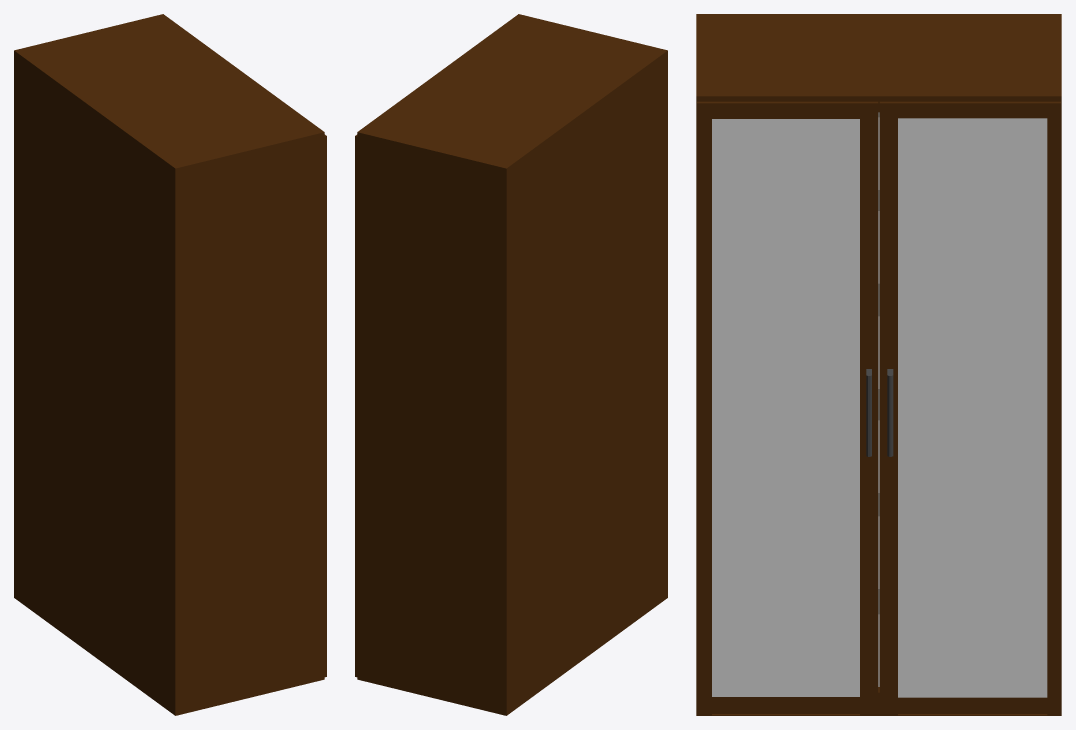
Rendered from Furniture 3.fbx.
3 views of the same model, side by side, from view 1: azimuth 30°, elevation 25°; view 2: azimuth 150°, elevation 25°; view 3: azimuth 270°, elevation 25° (orthographic). The views are drawn at different scales.
Parts seen in each view (by area): view 1: Base.002, Door Glass.002; view 2: Base.002, Door Glass.003; view 3: Door Glass.002, Door Glass.003, Base.002.
Part boxes in pixels (<box>): Base.002: <box>14,14,324,715</box>; Door Glass.002: <box>324,134,326,677</box>; Base.002: <box>357,14,667,715</box>; Door Glass.003: <box>355,134,357,677</box>; Door Glass.002: <box>697,101,878,715</box>; Door Glass.003: <box>879,101,1060,715</box>; Base.002: <box>696,14,1061,715</box>.
Size of the model in its own units: 238 by 754 by 403.
